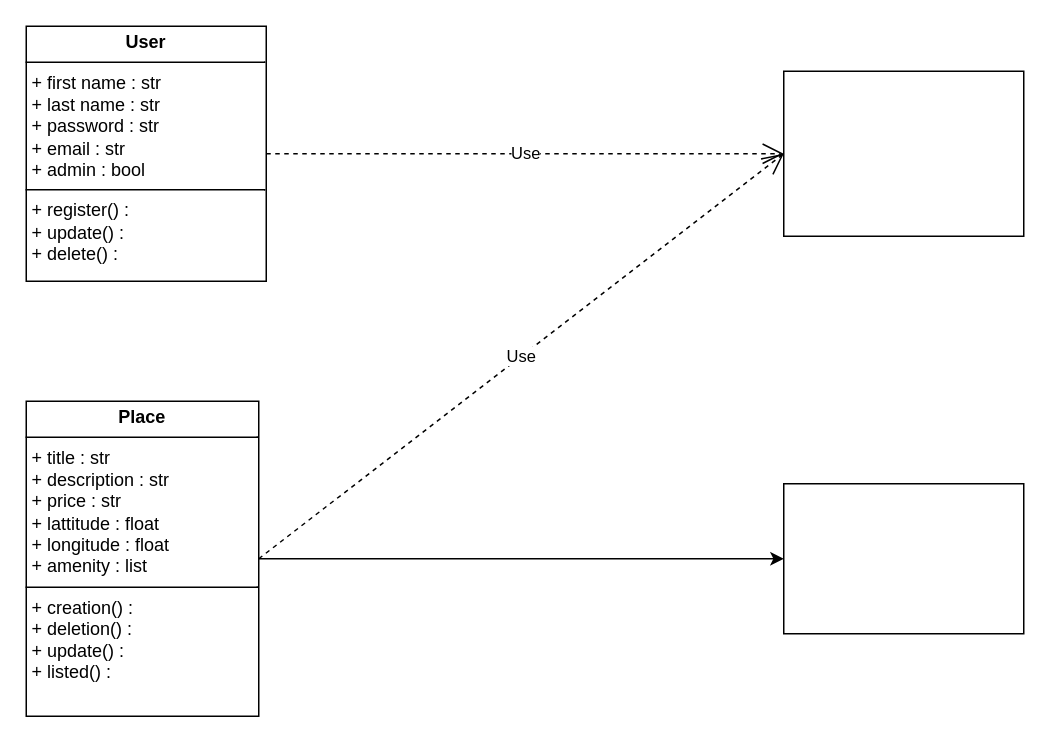
This 1050x743 diagram has some shape labels left out. Each missing label, with the centre of its shape:
Ameniy + Name : str + Description : str +: the point at 903,558
Review + rating : int + comment : str + show() :: the point at 903,153
